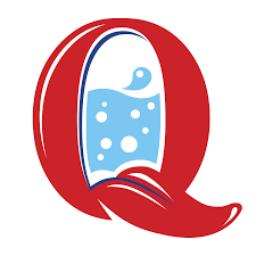q: (28, 14, 246, 242)
